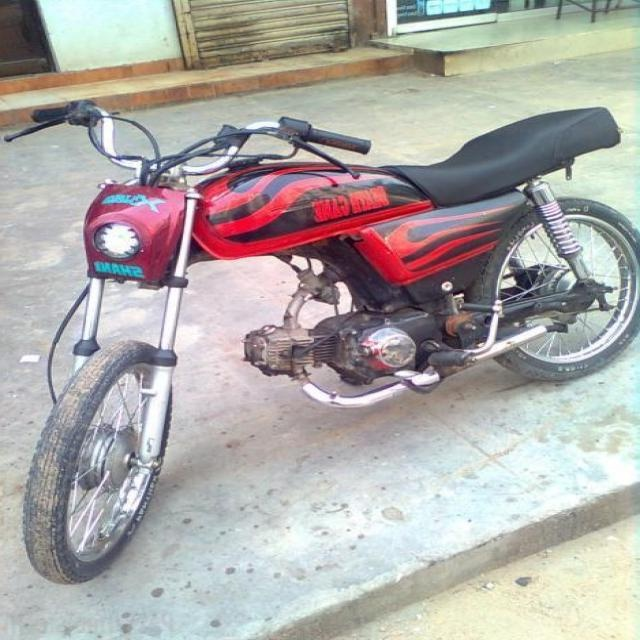motorcycle: (22, 66, 634, 605)
